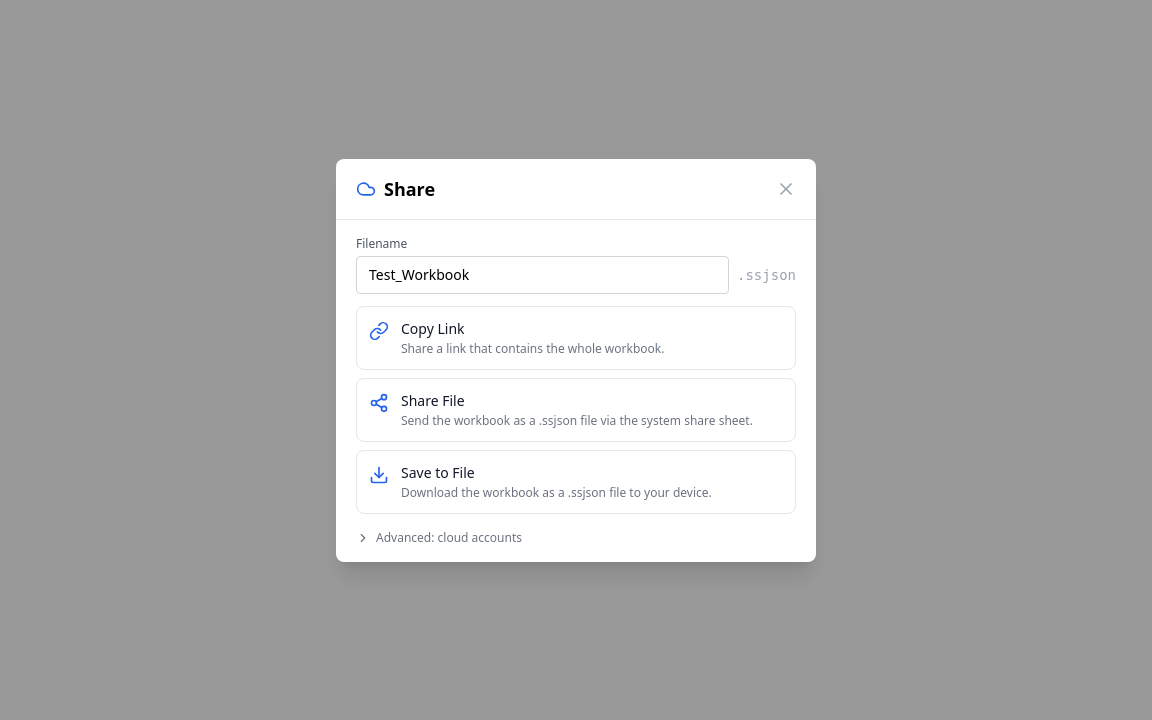
Test: CloudStorageModal › error banner › can be dismissed
The image size is (1152, 720).
Click the text "Copy Link" at (433, 328), box x1=401 y1=318 x2=464 y2=338
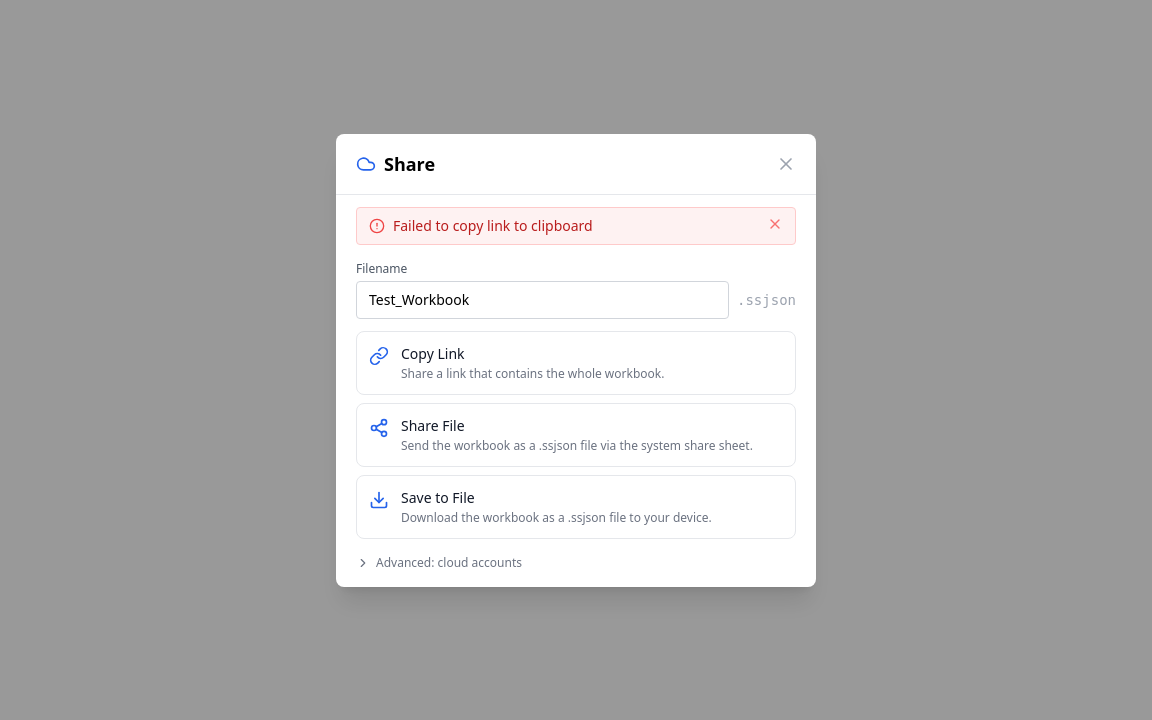
Check: the message "Failed to copy link to clipboard" is shown, box x1=356 y1=206 x2=796 y2=244
Dismiss it
Click the button named "Dismiss error" at (775, 224), box x1=767 y1=216 x2=783 y2=232
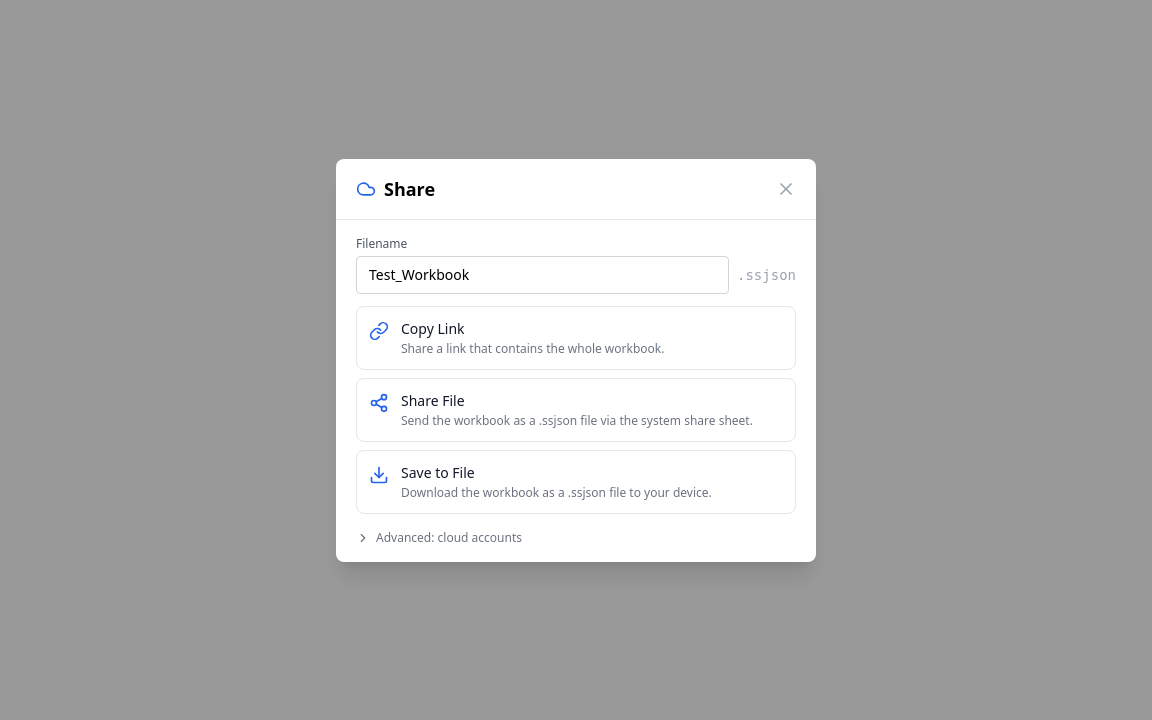
Check: the message "Failed to copy link to clipboard" is gone
